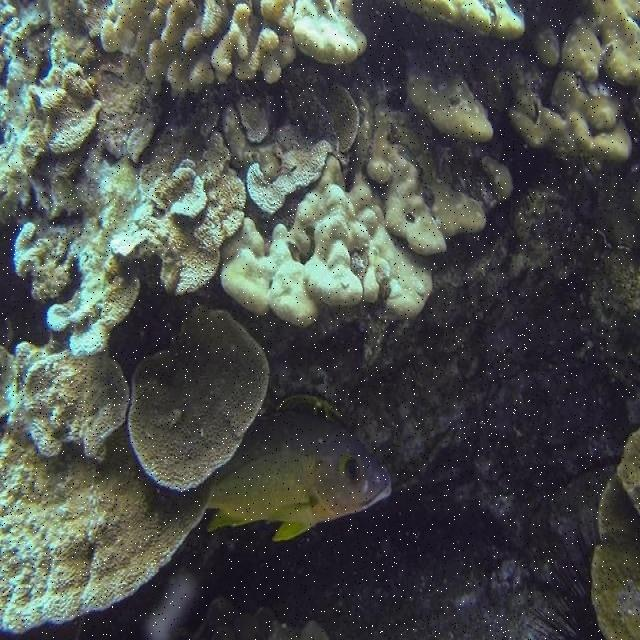fish: (207, 394, 392, 541)
reefs: (0, 1, 639, 356), (0, 305, 271, 633)
